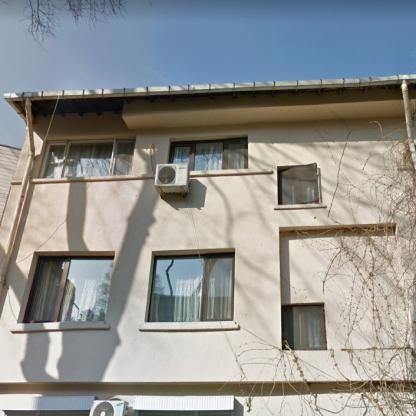window: (149, 254, 233, 321), (26, 258, 113, 322), (41, 140, 135, 178), (172, 140, 246, 170), (282, 305, 325, 348), (279, 163, 320, 202)
